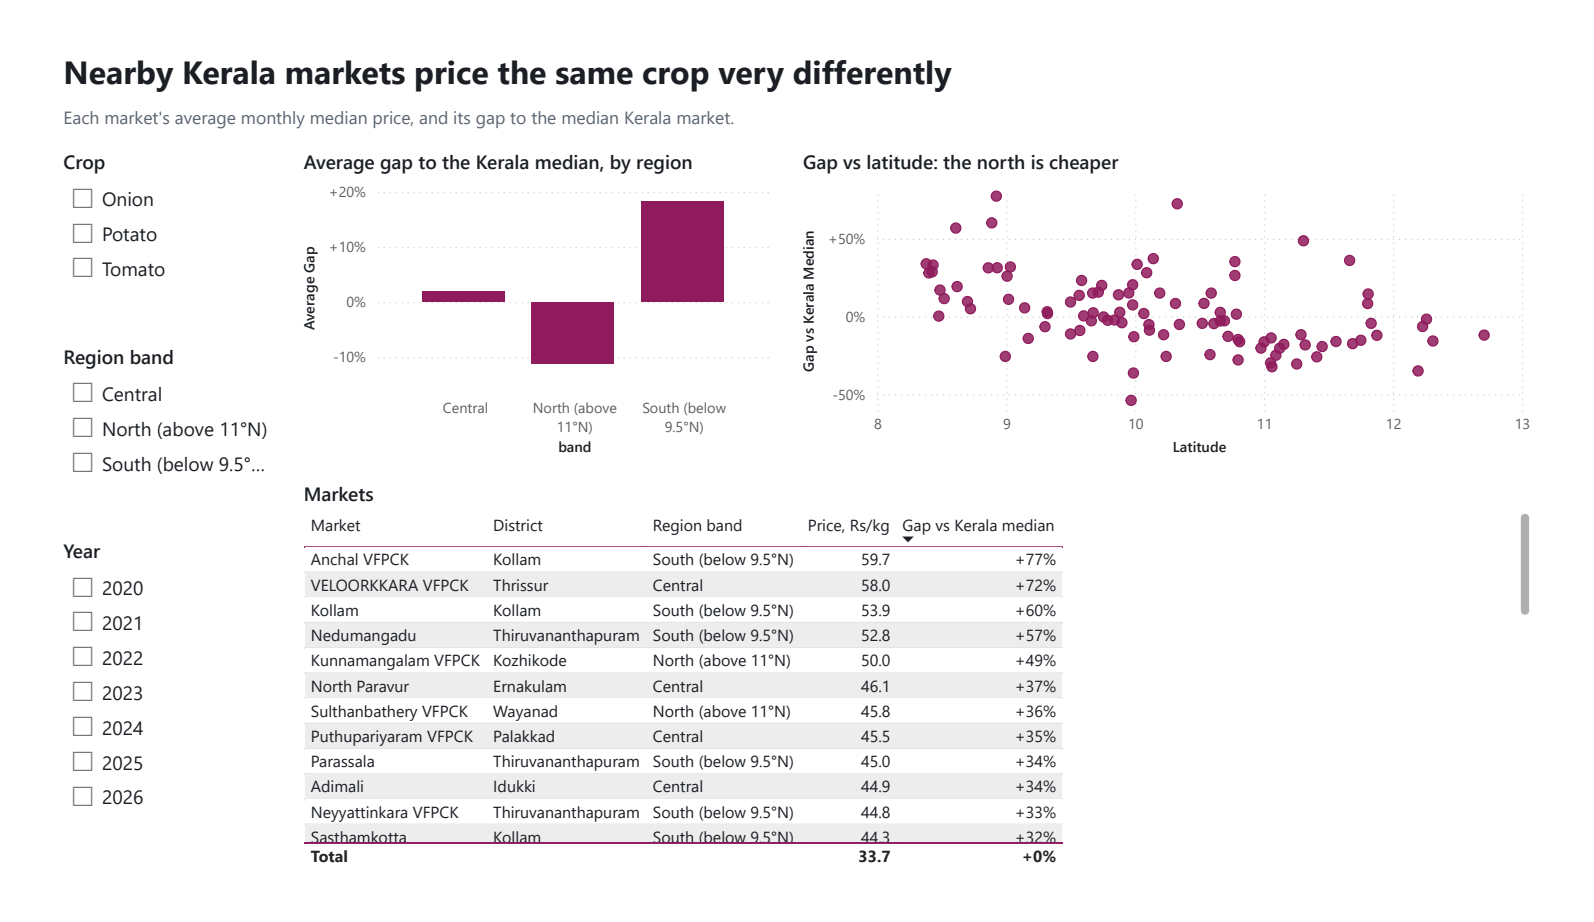

This screenshot's page, from the dashboard's own definition file:
{"tool":"powerbi","page":{"name":"Markets","canvas":[1280,720],"ordinal":1},"visuals":[{"type":"textbox","box":[24,12,1100,52],"z":0},{"type":"textbox","box":[24,58,1000,30],"z":1000},{"type":"slicer","title":"Crop","fields":{"Values":["Crop.Crop"]},"box":[24,100,180,150],"z":2000},{"type":"slicer","title":"Region band","fields":{"Values":["Markets.band"]},"box":[24,262,180,150],"z":3000},{"type":"slicer","title":"Year","fields":{"Values":["Date.Year"]},"box":[24,424,180,280],"z":4000},{"type":"clusteredColumnChart","title":"Average gap to the Kerala median, by region","fields":{"Category":["Markets.band"],"Y":["Market Month.Average Gap"]},"box":[224,100,400,260],"z":5000},{"type":"scatterChart","title":"Gap vs latitude: the north is cheaper","fields":{"Category":["Markets.market"],"X":["Markets.Latitude"],"Y":["Market Month.Gap vs Kerala Median"]},"box":[640,100,616,260],"z":6000},{"type":"tableEx","title":"Markets","fields":{"Values":["Markets.market","Markets.district","Markets.band","Market Month.Market Price","Market Month.Gap vs Kerala Median"]},"box":[224,376,1032,328],"z":7000}]}

Visuals, with their boxes in screenshot pixels (x1, y1, x2, y2), scaled from the page's 1280x720 canvas onto the 1594x922 screenshot:
textbox: region(30, 15, 1400, 82)
textbox: region(30, 74, 1275, 113)
"Crop" slicer: region(30, 128, 254, 320)
"Region band" slicer: region(30, 336, 254, 528)
"Year" slicer: region(30, 543, 254, 902)
"Average gap to the Kerala median, by region" clusteredColumnChart: region(279, 128, 777, 461)
"Gap vs latitude: the north is cheaper" scatterChart: region(797, 128, 1564, 461)
"Markets" tableEx: region(279, 481, 1564, 902)
